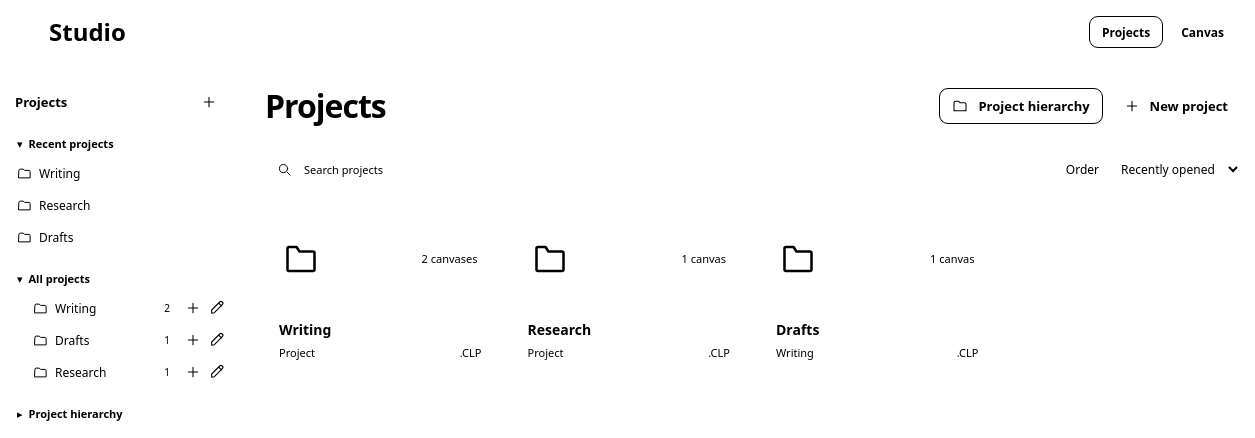
home perspectives › opens project contents explicitly, includes descendants, and returns to project cards
The width and height of the screenshot is (1255, 438).
Click the button with aria-label "Browse project Writing" at coordinates (380, 293), box [265,212,496,374]
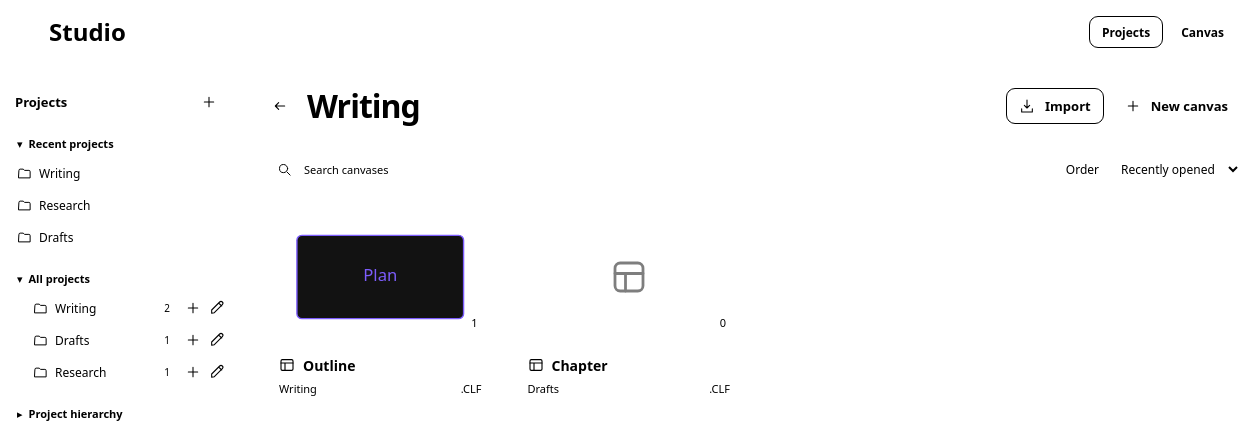
Expected: the heading "Writing" is shown, [307,88,420,125]
Expected: the button with aria-label "Open canvas Chapter in Drafts" is shown, [514,212,744,410]
Expected: the button "1 canvas Research Project .CLP" is gone
Click the button named "Back to projects" at coordinates (280, 106), box [265,91,295,121]
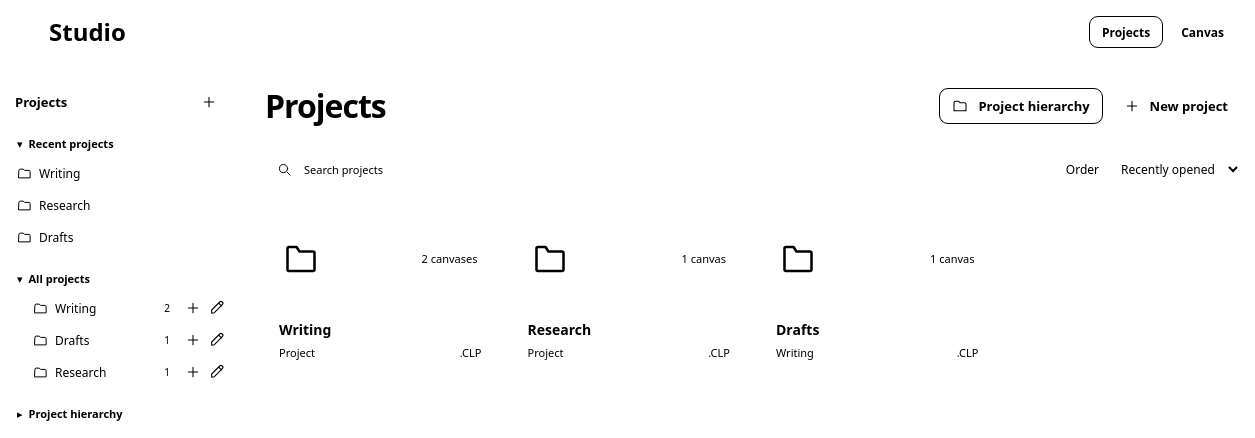
Expected: the button with aria-label "Browse project Writing" is shown, [265,212,496,374]
